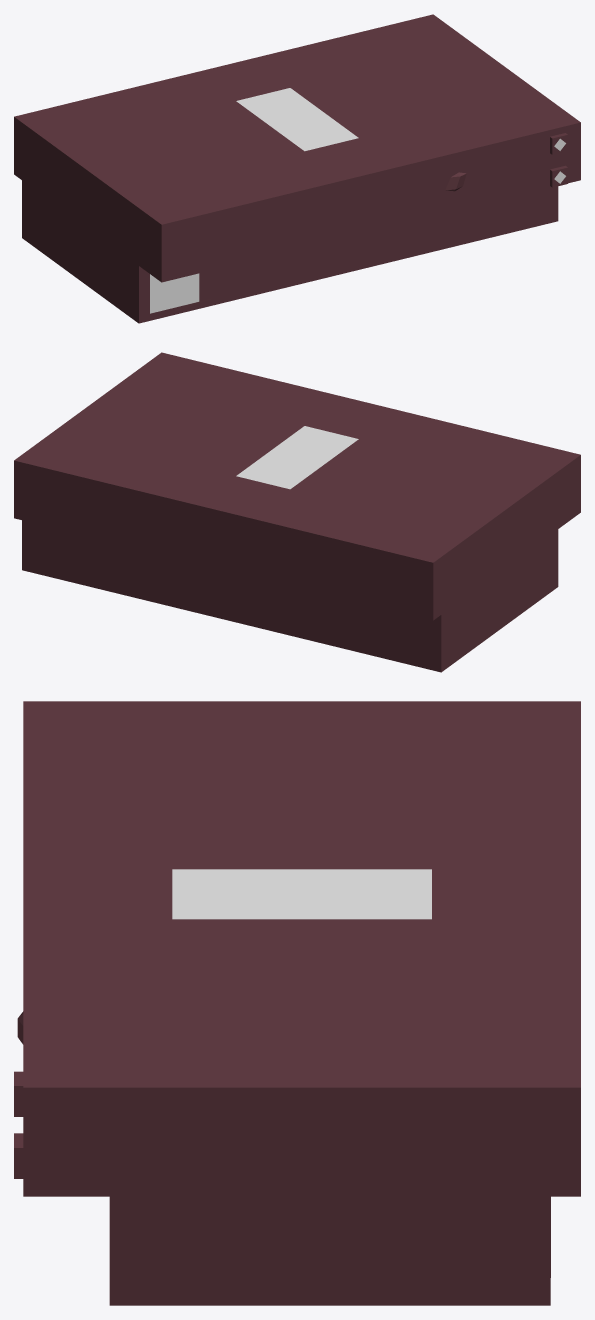
The model's file is console-p2-horizontal.fbx.
The picture shows the model from 3 angles, top to bottom: view 1: azimuth 30°, elevation 25°; view 2: azimuth 150°, elevation 25°; view 3: azimuth 270°, elevation 25°; orthographic projection. The views are drawn at different scales.
Parts seen in each view (by area): view 1: console-p2-horizontal; view 2: console-p2-horizontal; view 3: console-p2-horizontal.
Part boxes in pixels (x1,y1,x2,y2): console-p2-horizontal: [14, 14, 580, 323]; console-p2-horizontal: [14, 352, 580, 672]; console-p2-horizontal: [14, 701, 580, 1305].
Bounding box in the file's own units: 0.33 × 0.0869 × 0.2047.
